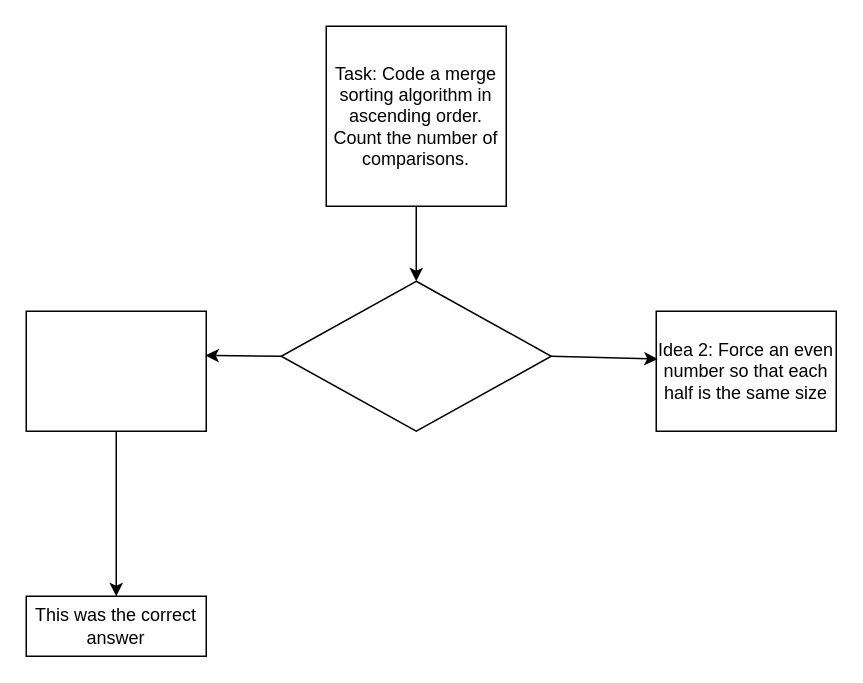
Some shapes in this 863 by 683 pixel diagram are drawn without their labels. Here are the shapes that lost their labels. From the top down, the centre of each, then its label:
At point 115,370: "Idea 1: Let the halves play out and see what happens".
At point 415,355: "Problem: If user makes the array, how will the halves be divided?".
